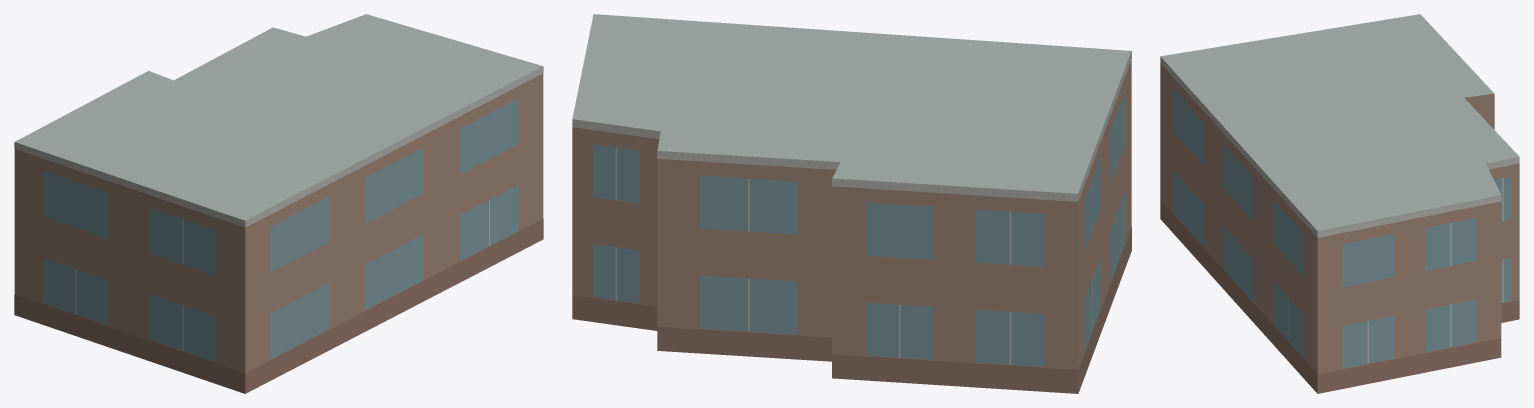
The model's file is survey-upis-32687561.glb.
3 renders of one model, left to right at view 1: azimuth 30°, elevation 25°; view 2: azimuth 150°, elevation 25°; view 3: azimuth 270°, elevation 25°, orthographic. The views are drawn at different scales.
Visible parts, largest first — view 1: survey-upis-32687561.tmp; view 2: survey-upis-32687561.tmp; view 3: survey-upis-32687561.tmp.
Part boxes in pixels (left/top/right/bottom): survey-upis-32687561.tmp: left=14, top=14, right=543, bottom=393; survey-upis-32687561.tmp: left=572, top=14, right=1131, bottom=393; survey-upis-32687561.tmp: left=1160, top=14, right=1519, bottom=393.
Size of the model in its own units: 17.5 by 6.1 by 12.23.
